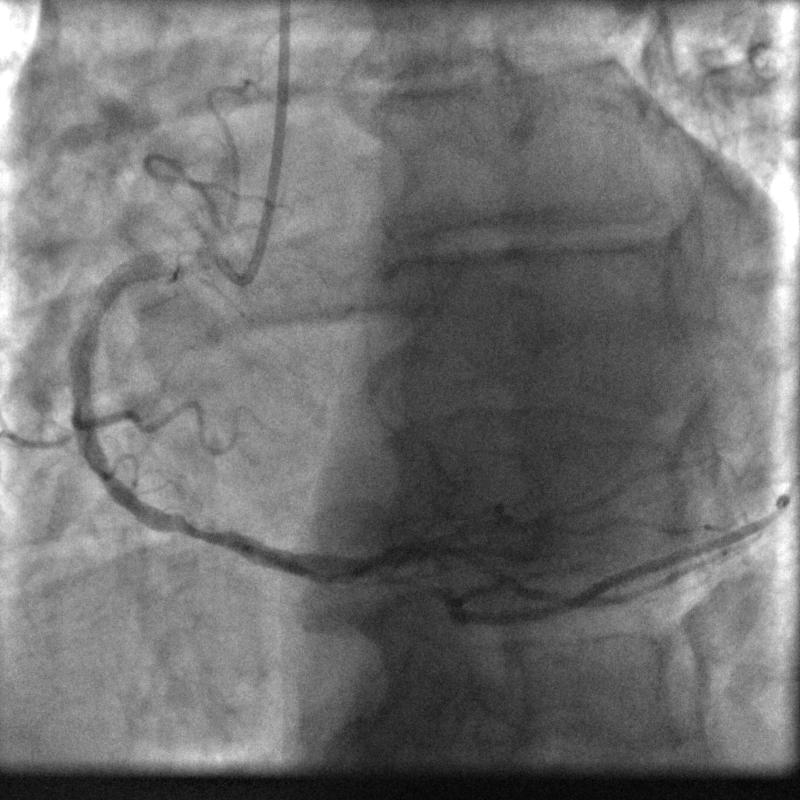Stenosis: (160, 510, 226, 544)
